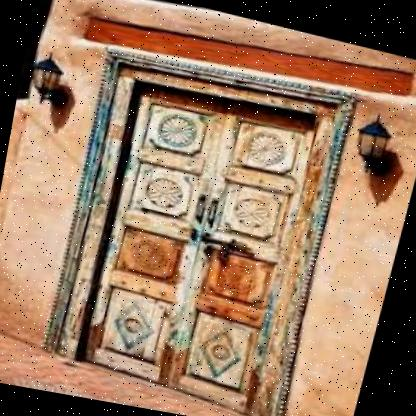door: (59, 49, 333, 416)
